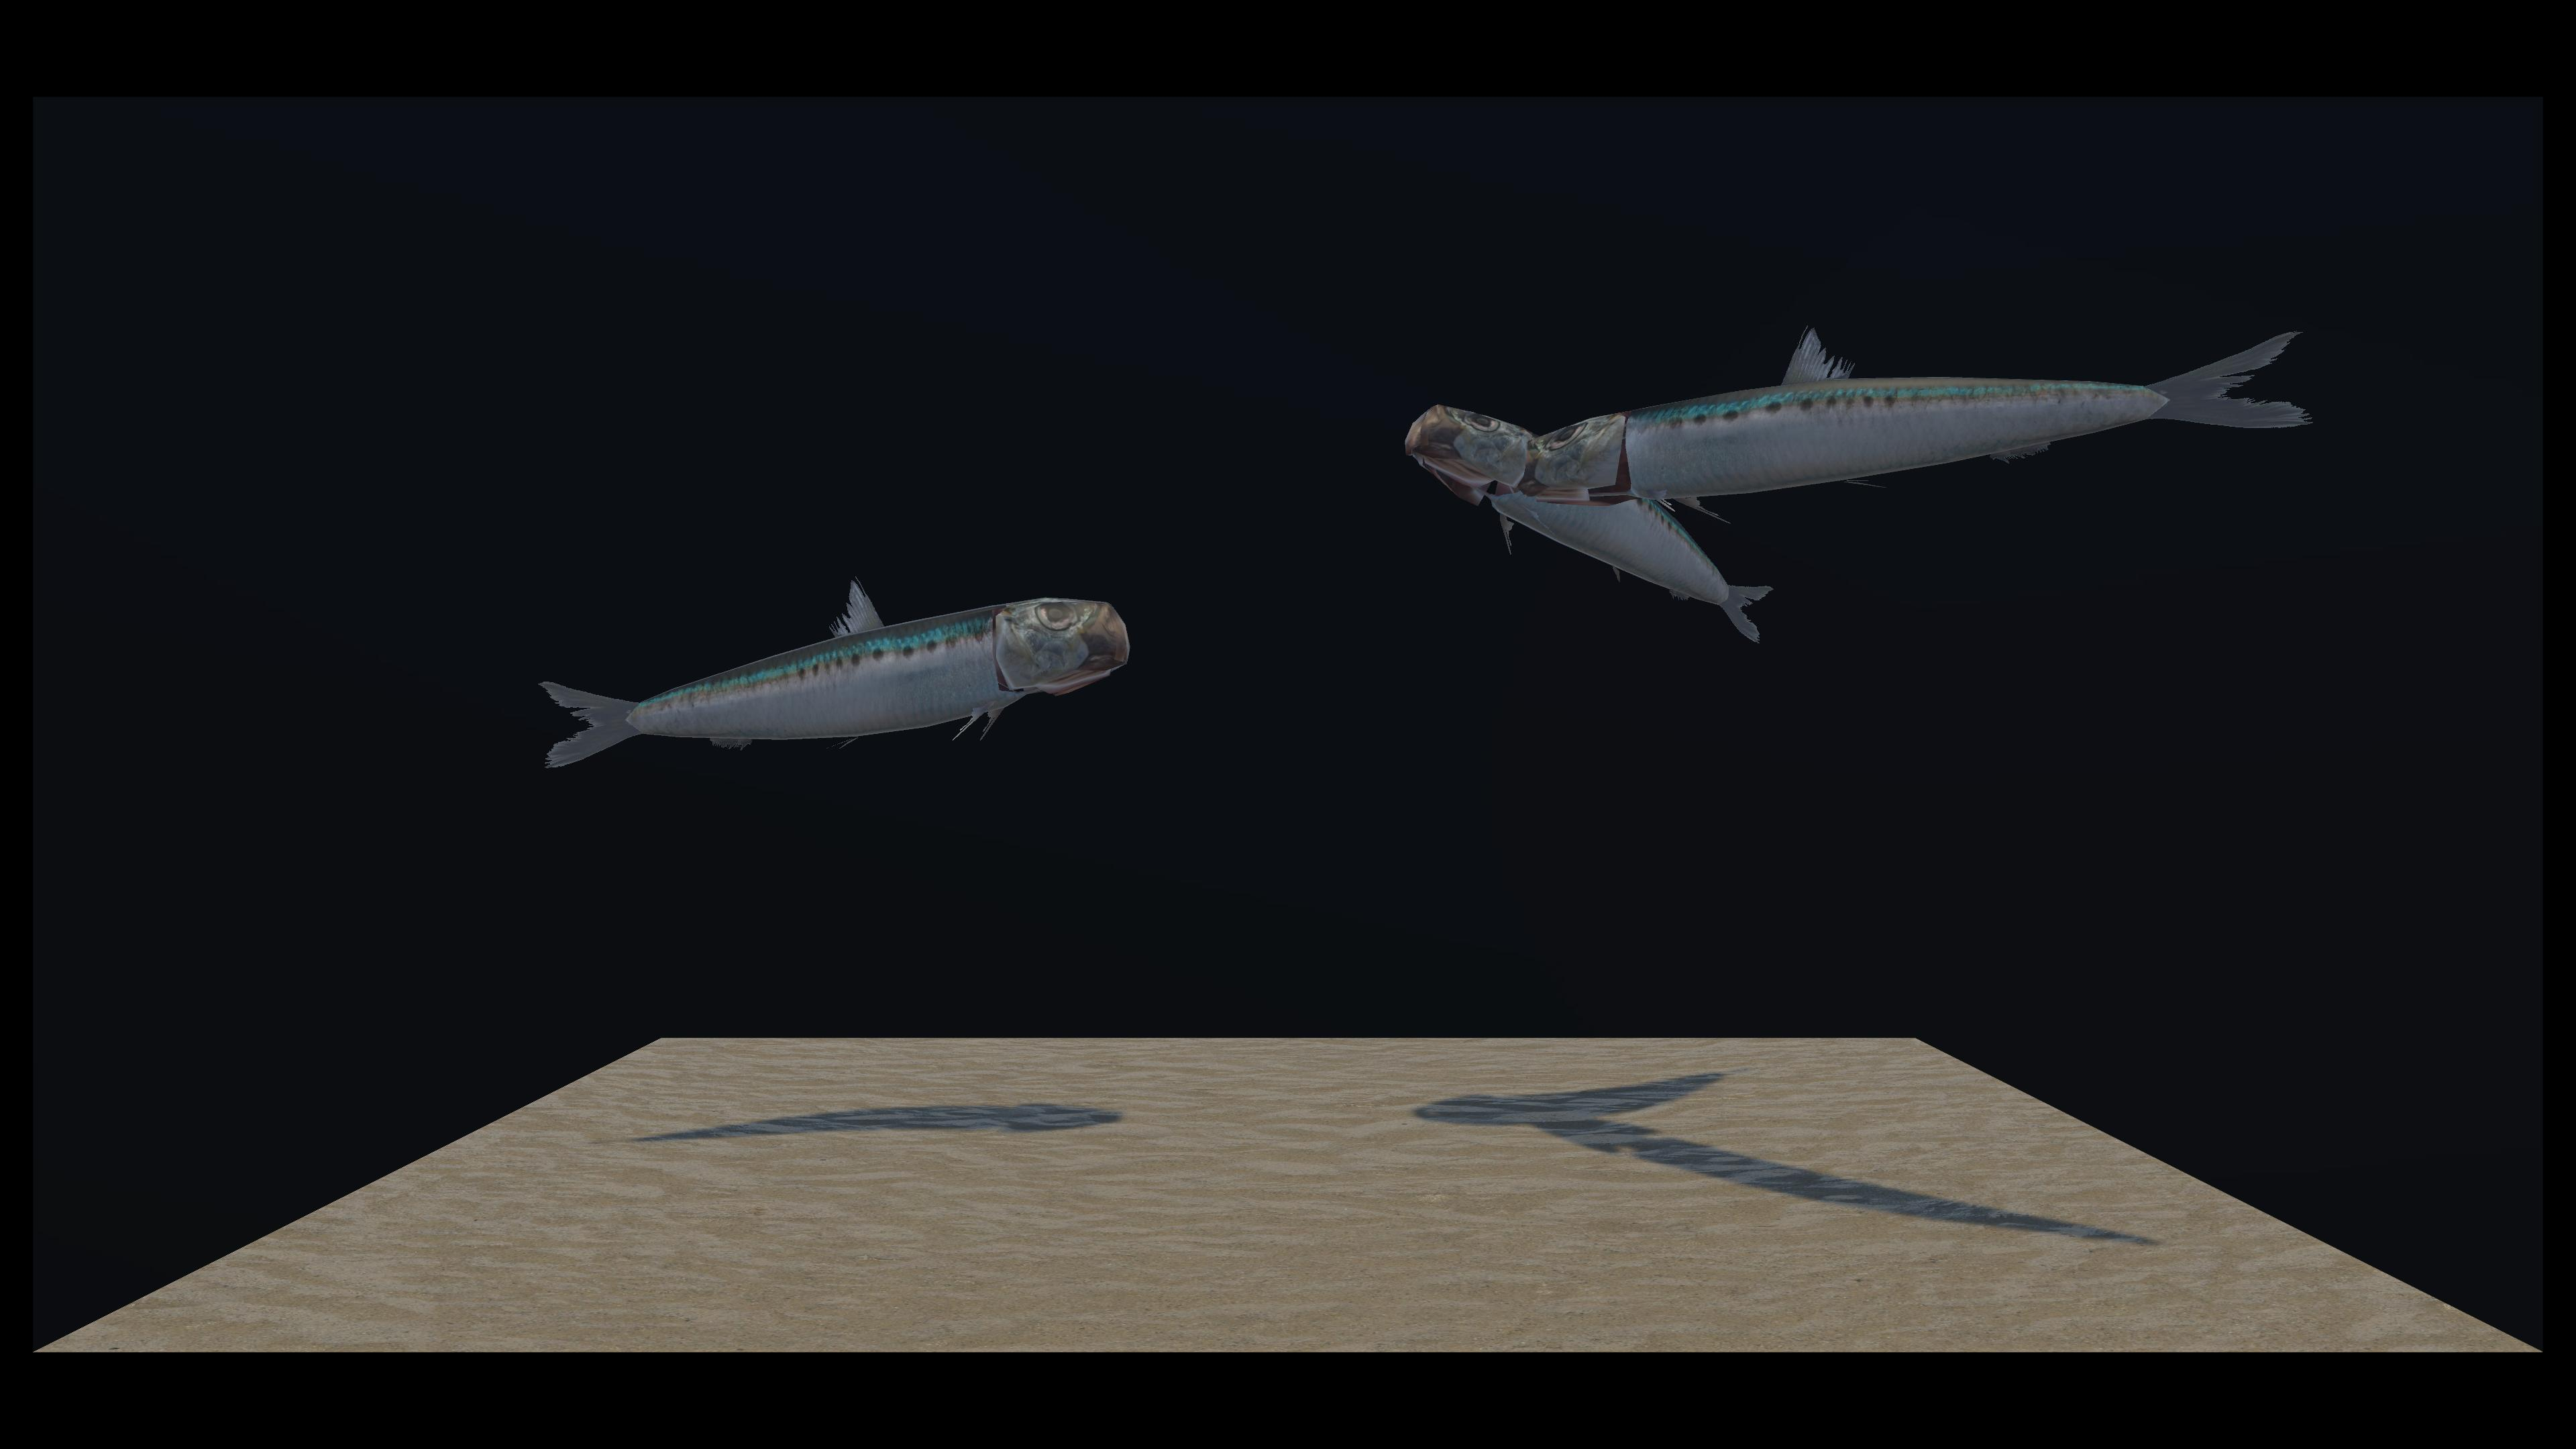Sardine_Front: (639, 407, 1775, 644), (1131, 329, 2291, 533), (547, 370, 1104, 766)
